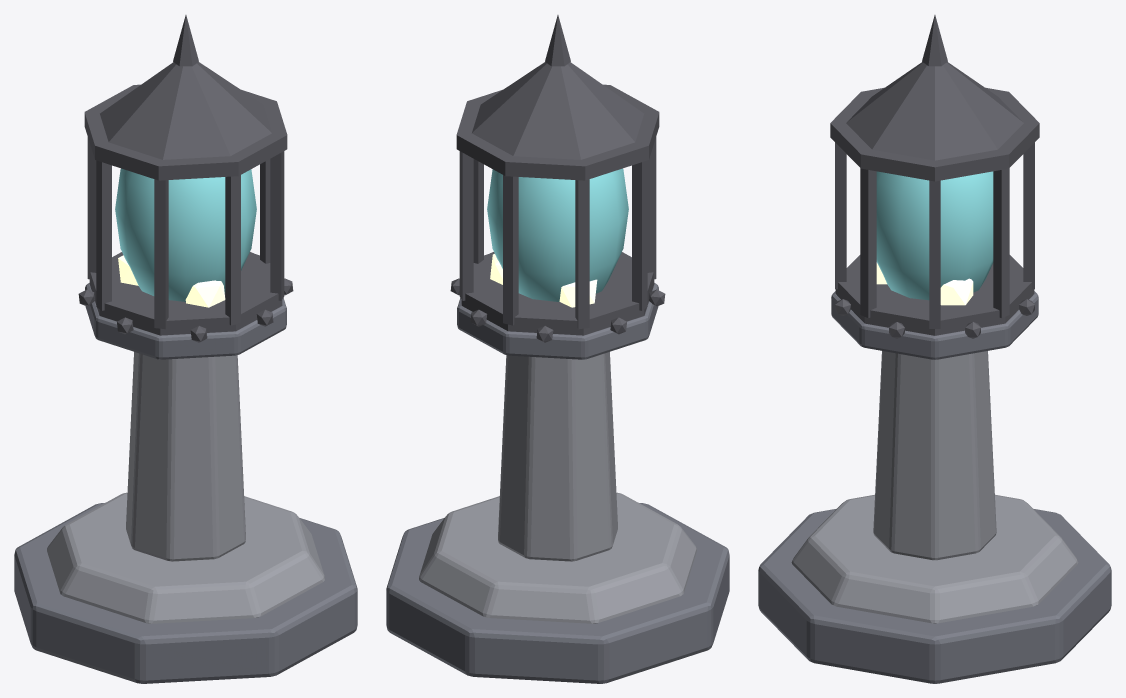
File: SH10_Prop_SoulLantern.fbx
3 renders of one model, left to right at view 1: azimuth 30°, elevation 25°; view 2: azimuth 150°, elevation 25°; view 3: azimuth 270°, elevation 25°, orthographic.
Parts seen in each view (by area): view 1: Plinth, Column, PlinthTop, Roof, SoulFlame, CageFloor, CageRing, Cap, Bar6, Bar4, Bar5, Bar7 (+4 smaller); view 2: Plinth, Column, PlinthTop, SoulFlame, Roof, CageFloor, CageRing, Cap, Bar2, Bar4, Bar3, Bar1 (+3 smaller); view 3: Plinth, Column, PlinthTop, SoulFlame, Roof, CageRing, CageFloor, Cap, Bar1, Bar7, Bar0, Bar2 (+3 smaller).
Part boxes in pixels (x1,y1,x2,y2): Plinth: [14, 503, 357, 683]; Column: [126, 352, 245, 561]; PlinthTop: [47, 492, 324, 623]; Roof: [100, 62, 271, 159]; SoulFlame: [115, 168, 256, 301]; CageFloor: [89, 252, 282, 335]; CageRing: [84, 84, 287, 180]; Cap: [85, 283, 286, 359]; Bar6: [225, 175, 240, 325]; Bar4: [96, 160, 111, 310]; Bar5: [154, 179, 168, 329]; Bar7: [270, 151, 284, 300]; Plinth: [386, 503, 729, 683]; Column: [498, 352, 617, 561]; PlinthTop: [419, 492, 696, 623]; SoulFlame: [487, 168, 628, 301]; Roof: [472, 62, 643, 159]; CageFloor: [461, 252, 654, 335]; CageRing: [456, 84, 659, 180]; Cap: [457, 283, 658, 359]; Bar2: [503, 175, 518, 325]; Bar4: [632, 160, 647, 310]; Bar3: [575, 179, 589, 329]; Bar1: [459, 151, 473, 300]; Plinth: [758, 509, 1111, 683]; Column: [873, 351, 996, 560]; PlinthTop: [791, 494, 1078, 623]; SoulFlame: [876, 171, 993, 300]; Roof: [846, 62, 1023, 160]; CageRing: [830, 87, 1039, 181]; CageFloor: [835, 255, 1034, 335]; Cap: [831, 291, 1038, 359]; Bar1: [993, 168, 1009, 318]; Bar7: [860, 168, 876, 318]; Bar0: [929, 180, 940, 328]; Bar2: [1023, 142, 1034, 289].
Size of the model in its own units: 0.6746 by 1.26 by 0.6746.
